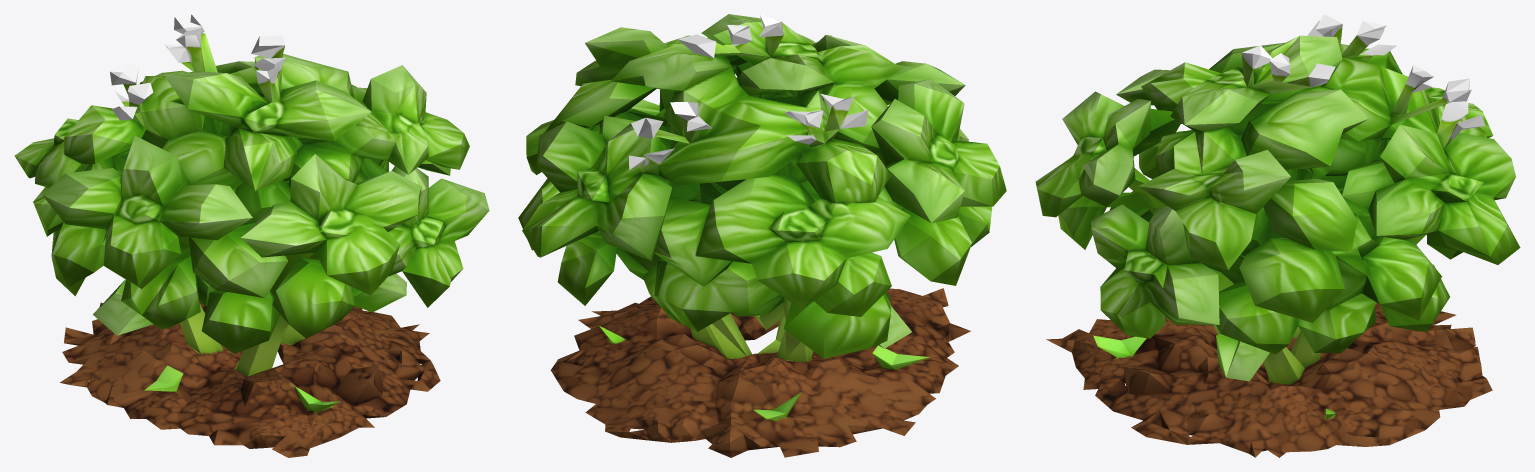
The model's file is Basil.glb.
The picture shows the model from 3 angles, left to right: view 1: azimuth 30°, elevation 25°; view 2: azimuth 150°, elevation 25°; view 3: azimuth 270°, elevation 25°; orthographic projection. The views are drawn at different scales.
Parts seen in each view (by area): view 1: geometry_0; view 2: geometry_0; view 3: geometry_0.
Boxes of the visible parts, <box> form: geometry_0: <box>14,14,489,457</box>; geometry_0: <box>518,14,1006,457</box>; geometry_0: <box>1035,14,1520,457</box>.
Bounding box in the file's own units: 0.61 × 0.46 × 0.61.
Materials: 1 (1 with a texture image).
